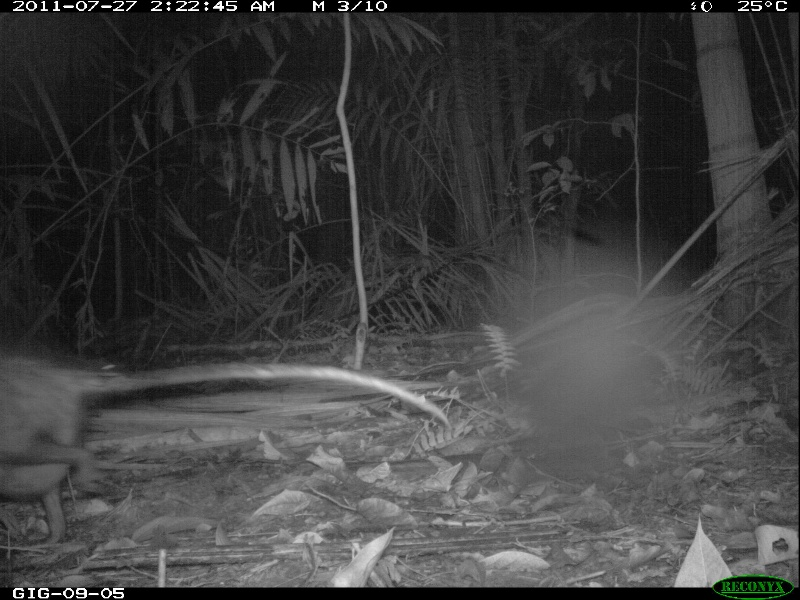opossum: (1, 347, 459, 534)
